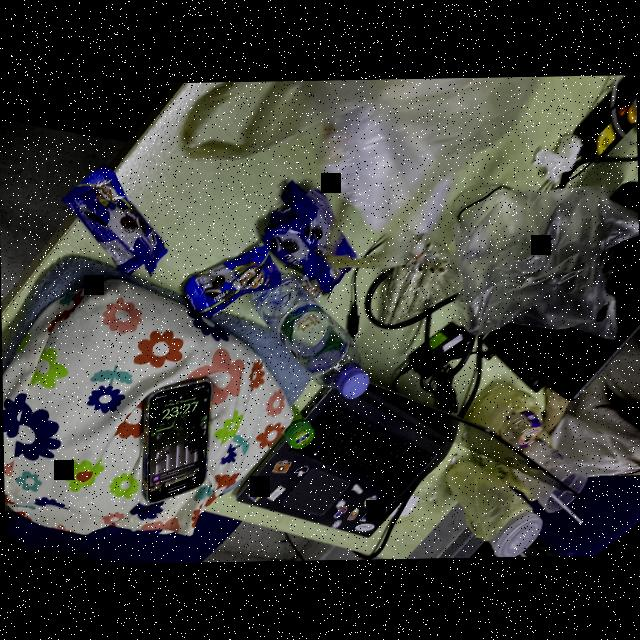plastic_bag: (167, 76, 552, 275), (450, 184, 640, 336), (319, 102, 454, 245), (442, 456, 532, 542), (466, 388, 552, 456)
plastic_bottle: (246, 276, 370, 400)
plastic_bottle_cap: (332, 366, 372, 402)
plastic_box: (506, 408, 544, 448)
plastic_cup: (510, 444, 588, 522)
plastic_cup_lid: (486, 514, 548, 556)
scrap_paper: (528, 130, 580, 190), (391, 493, 420, 520)
scrap_plastic: (412, 474, 444, 516)
snack_bag: (66, 165, 168, 278), (262, 184, 361, 294), (180, 242, 279, 316)
straw: (548, 488, 585, 528)
